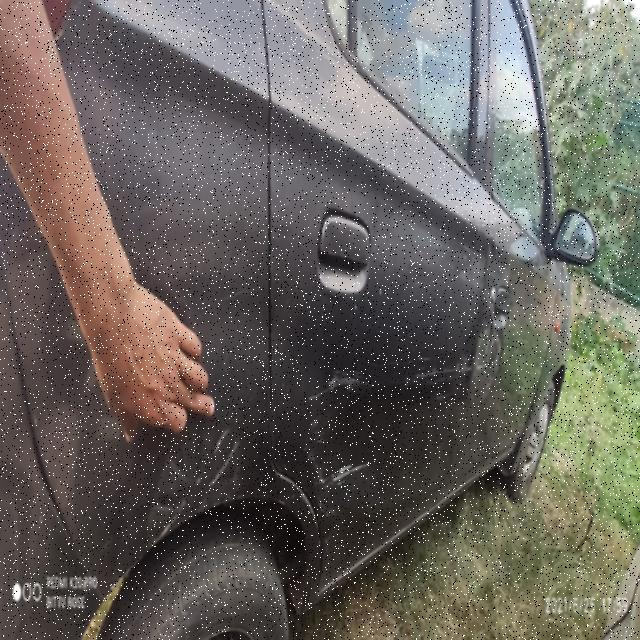doorouter-dent: (278, 185, 484, 530)
quaterpanel-dent: (57, 28, 268, 598)
